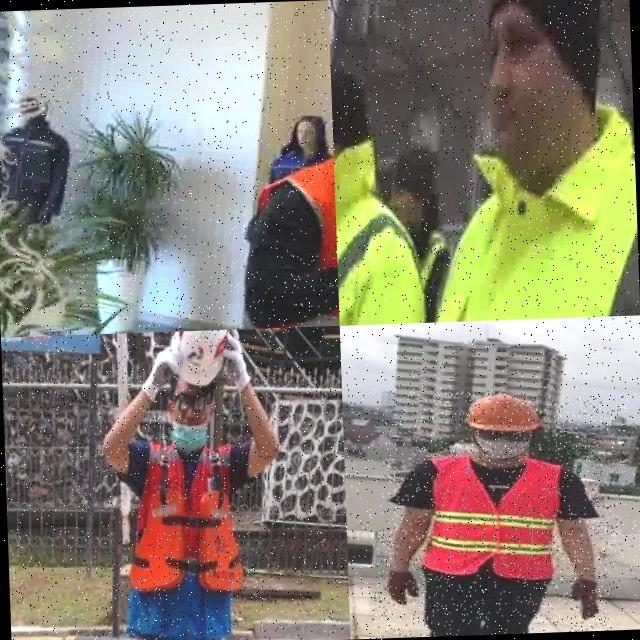helmet: (458, 384, 548, 438), (167, 329, 234, 386)
vest: (367, 75, 640, 324), (115, 432, 255, 640), (332, 122, 444, 326), (412, 447, 564, 586), (229, 151, 339, 329)
